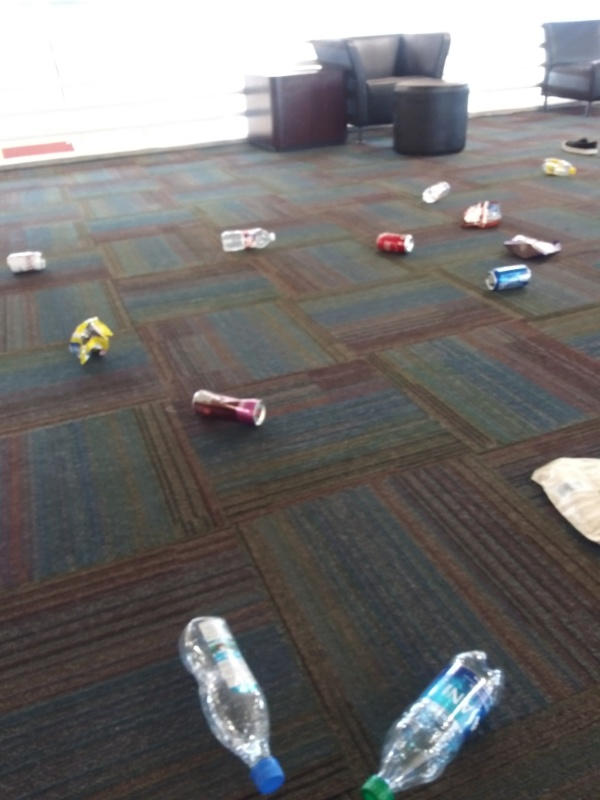bag: (527, 452, 600, 549), (65, 311, 119, 369), (501, 231, 567, 263), (456, 197, 507, 233)
bottle: (355, 646, 511, 800), (175, 610, 295, 800), (218, 225, 280, 254), (538, 153, 578, 180), (420, 179, 456, 206)
can: (191, 386, 269, 432), (483, 261, 536, 298), (370, 230, 419, 259), (4, 247, 49, 277)
